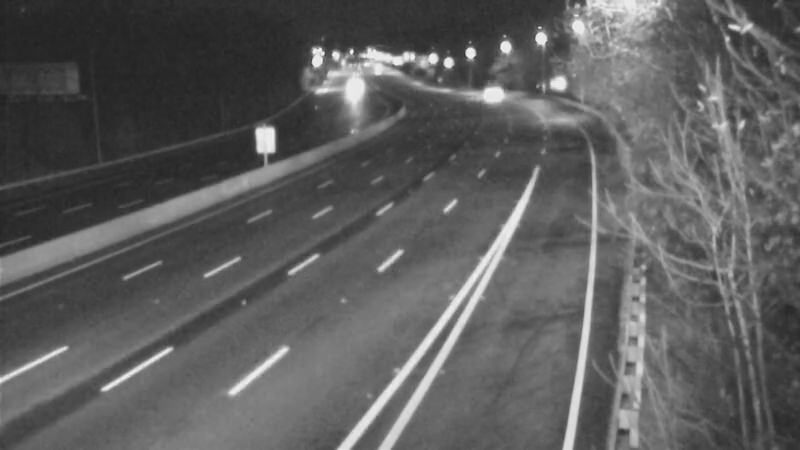vehicle: (464, 67, 514, 117), (328, 66, 378, 116)
